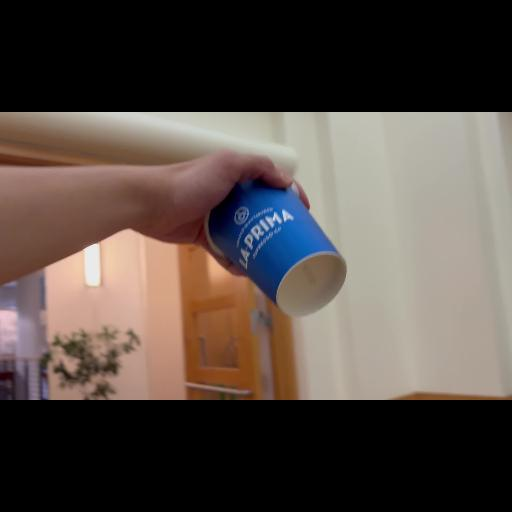lp_paper_cup: (184, 156, 348, 322)
